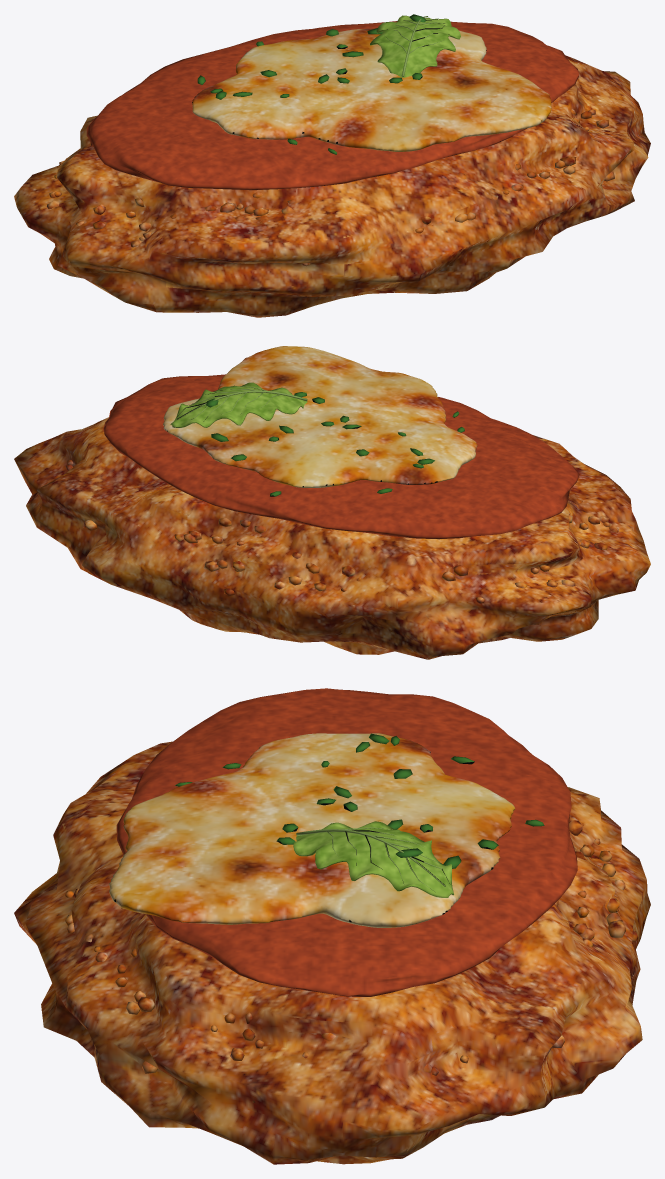
The model's file is chicken_parmesan.glb.
The picture shows the model from 3 angles, top to bottom: view 1: azimuth 30°, elevation 25°; view 2: azimuth 150°, elevation 25°; view 3: azimuth 270°, elevation 25°; orthographic projection. The views are drawn at different scales.
Visible parts, largest first — view 1: chicken_parmesan; view 2: chicken_parmesan; view 3: chicken_parmesan.
Part boxes in pixels (box(x1,y1,x2,y2)): chicken_parmesan: box(14, 14, 650, 317); chicken_parmesan: box(14, 346, 650, 659); chicken_parmesan: box(14, 688, 650, 1164).
Bounding box in the file's own units: 0.0979 × 0.0307 × 0.066.
Materials: 1 (1 with a texture image).
